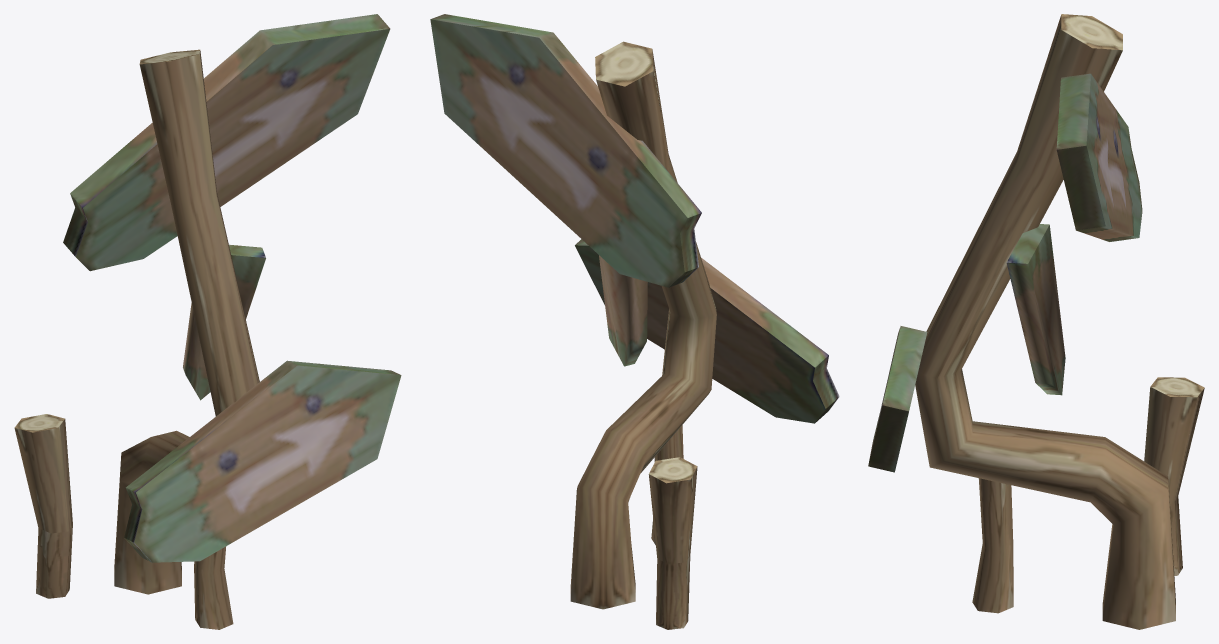
Rendered from Map_04_roadSignal02.FBX.
3 renders of one model, left to right at view 1: azimuth 30°, elevation 25°; view 2: azimuth 150°, elevation 25°; view 3: azimuth 270°, elevation 25°, orthographic. The views are drawn at different scales.
Visible parts, largest first — view 1: Map_04_roadSignal02; view 2: Map_04_roadSignal02; view 3: Map_04_roadSignal02.
Boxes of the visible parts, x1,y1,x2,y2 form: Map_04_roadSignal02: (14,14,401,629); Map_04_roadSignal02: (430,14,839,629); Map_04_roadSignal02: (868,14,1204,629).
Size of the model in its own units: 23.39 by 36.53 by 18.82.
